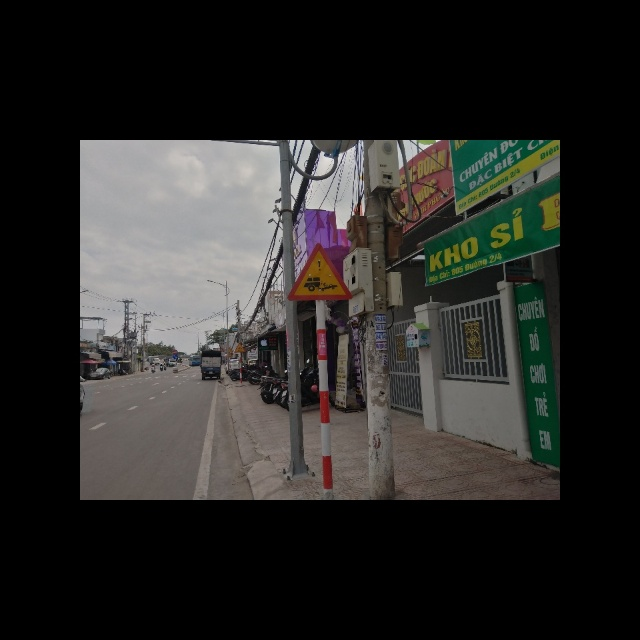Đoạn đường hay xảy ra tai nạn: (290, 244, 354, 302)
Đường đôi: (234, 342, 247, 354)
